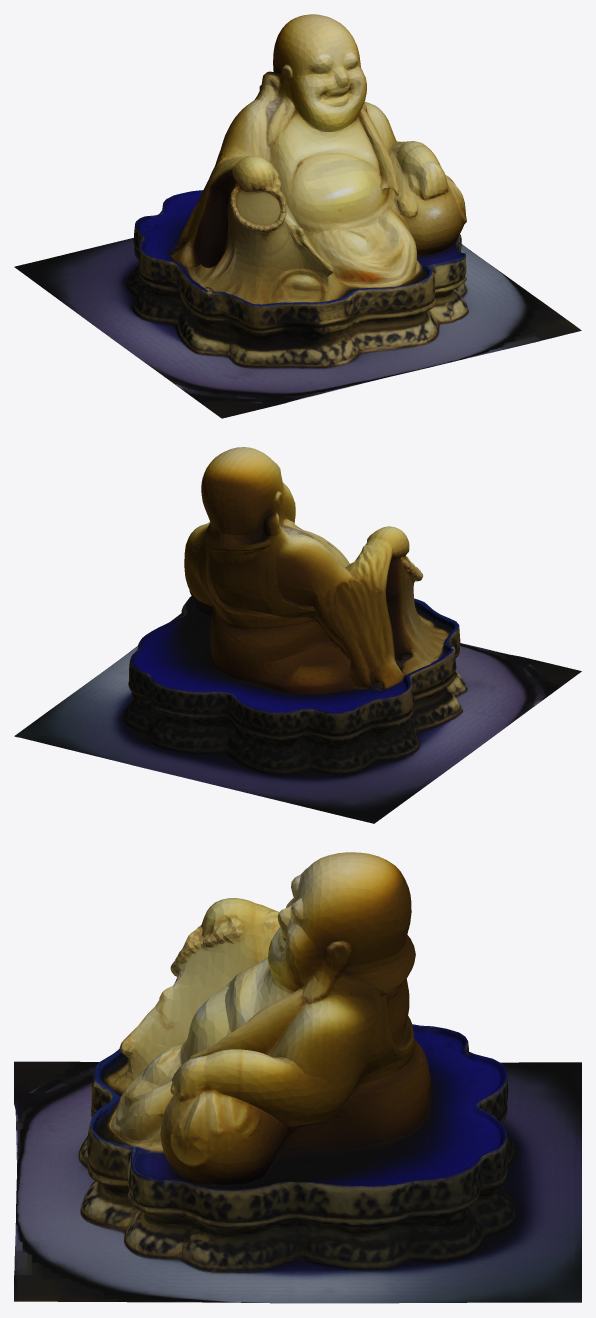
Rendered from 寿山石弥勒佛坐像.glb.
3 renders of one model, top to bottom at view 1: azimuth 30°, elevation 25°; view 2: azimuth 150°, elevation 25°; view 3: azimuth 270°, elevation 25°, orthographic. The views are drawn at different scales.
Visible parts, largest first — view 1: world; view 2: world; view 3: world.
Part boxes in pixels (x1,y1,x2,y2): world: (14,14,581,418); world: (14,447,581,823); world: (14,852,581,1303).
Bounding box in the file's own units: 1 × 0.6834 × 1.
1 material, 1 textured.
